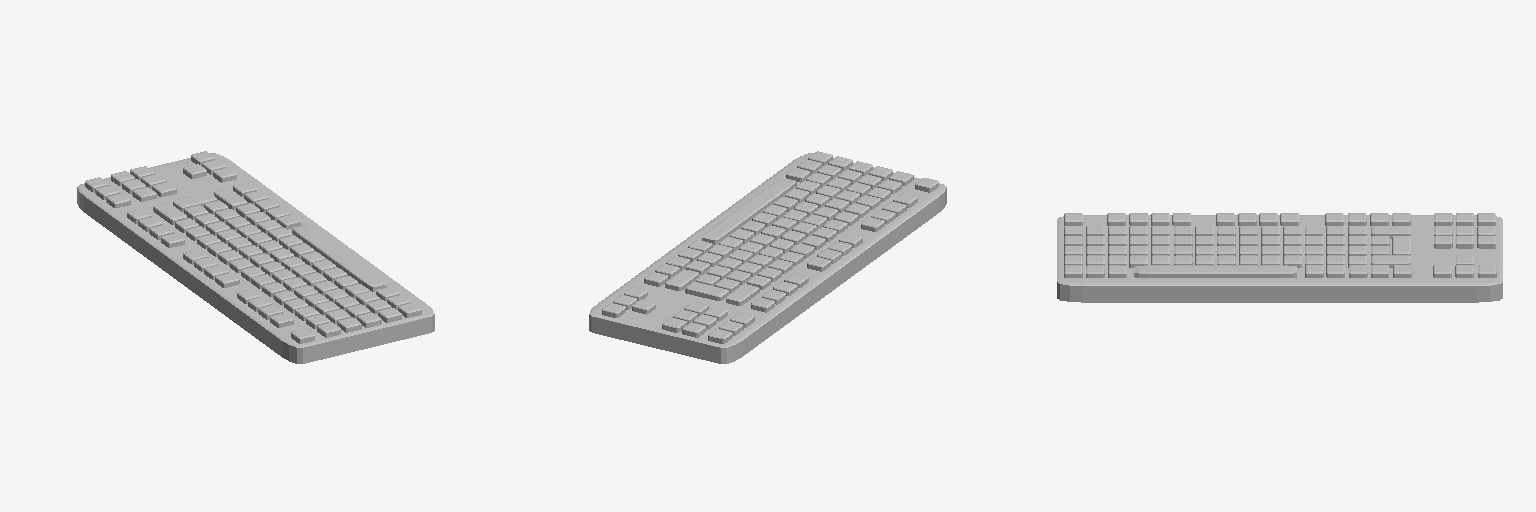
The model's file is computer_2.obj.
3 views of the same model, side by side, from view 1: azimuth 30°, elevation 25°; view 2: azimuth 150°, elevation 25°; view 3: azimuth 270°, elevation 25° (orthographic).
Bounding box in the file's own units: 0.185 × 0.0289 × 0.4886.